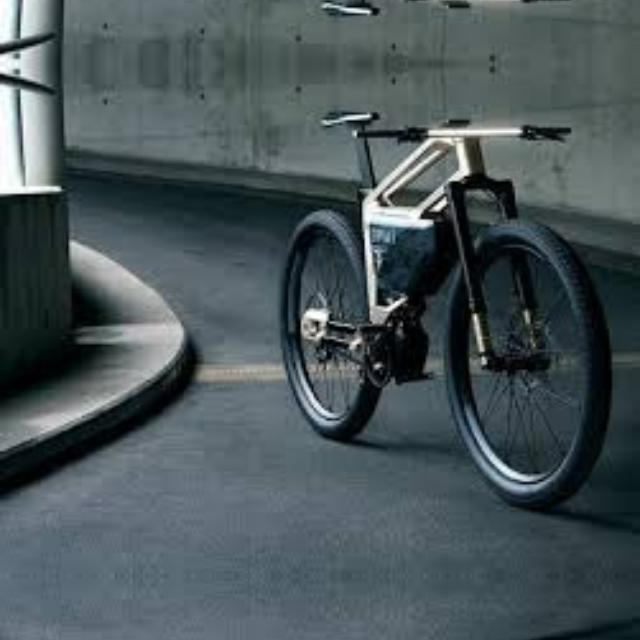obstacle: (260, 98, 640, 510), (260, 0, 639, 27)
